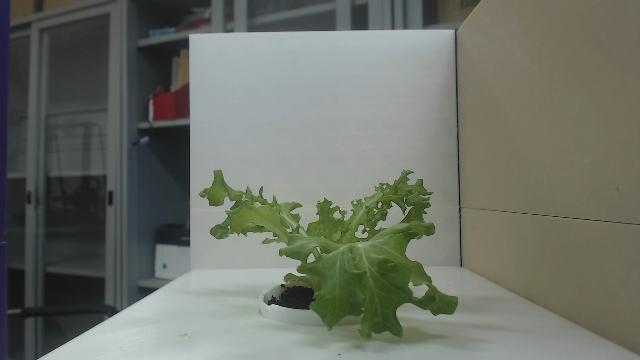Vegetative Stage: (198, 164, 460, 342)
